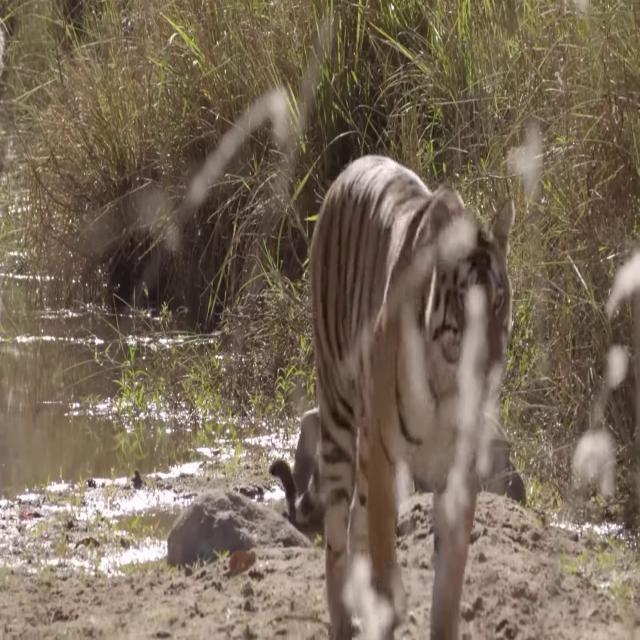tiger: (268, 154, 515, 640)
